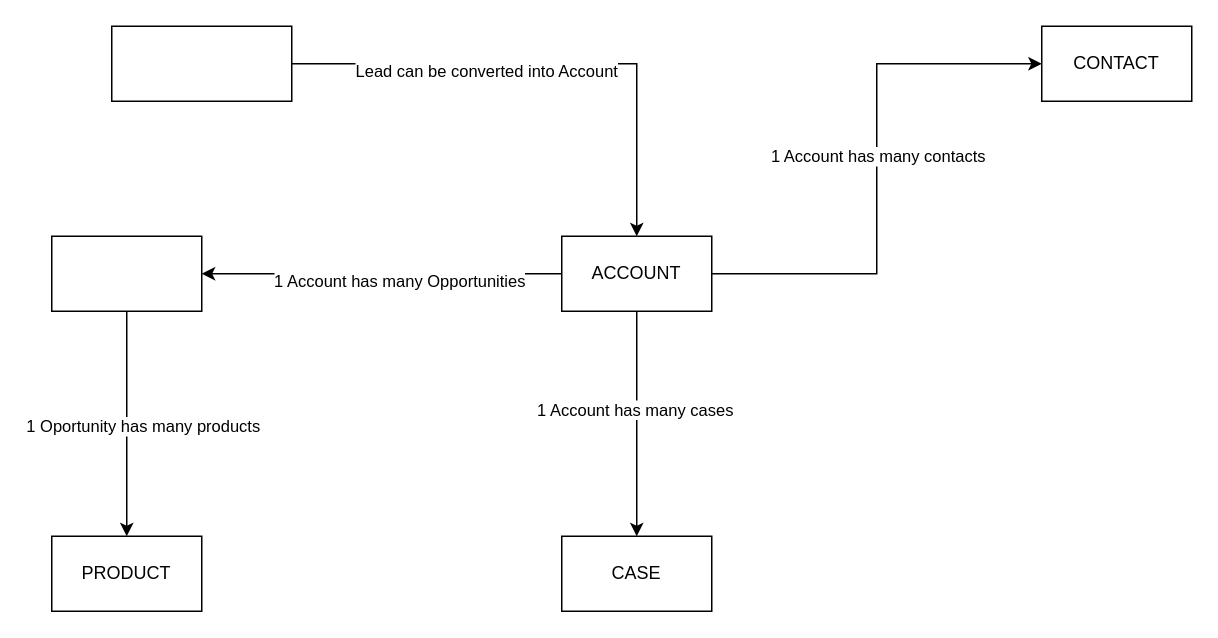
Some shapes in this 1218 by 638 pixel diagram are drawn without their labels. Here are the shapes that lost their labels. From the top down, the centre of each, then its label:
At [201,63]: "LEAD".
At [126,273]: "OPORTUNITY".
